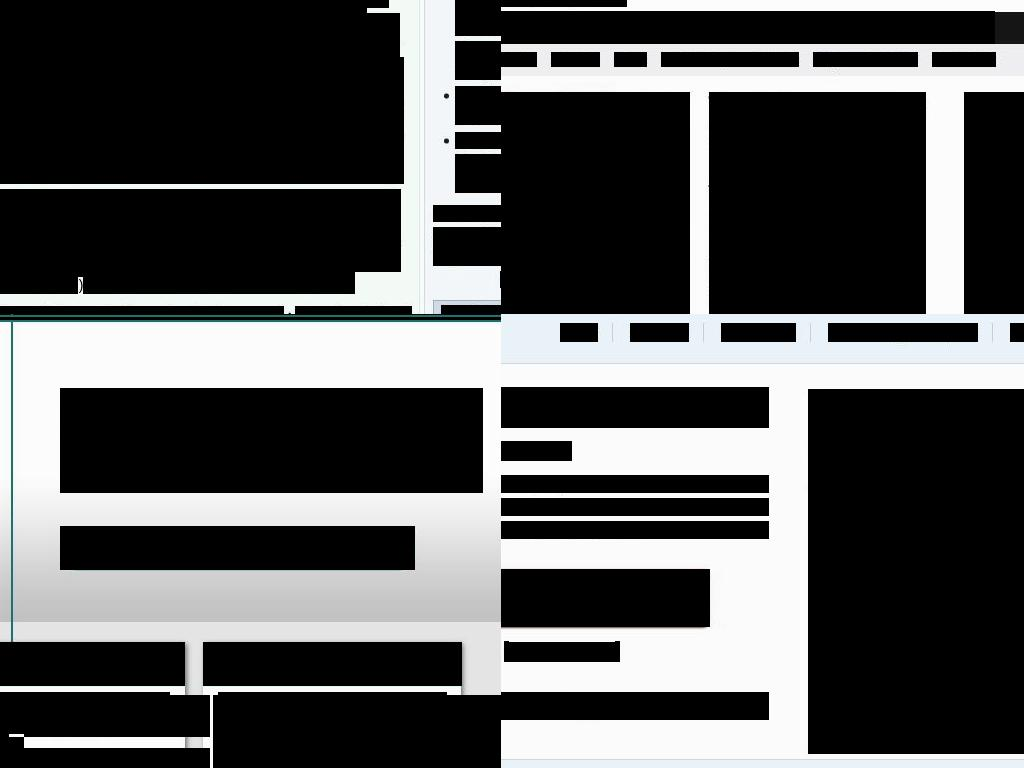button: (501, 92, 690, 314), (60, 526, 415, 570), (501, 569, 710, 627), (704, 11, 822, 44), (603, 11, 705, 44), (894, 11, 995, 44), (523, 11, 604, 44), (821, 11, 895, 44), (501, 11, 524, 44)
heading: (709, 92, 926, 314), (441, 305, 501, 314)
iframe: (218, 692, 447, 768)
image: (808, 389, 1024, 754), (501, 92, 690, 314), (213, 695, 329, 768), (0, 317, 501, 320)
link: (0, 0, 367, 30), (501, 579, 677, 602), (828, 323, 978, 342), (433, 227, 501, 266), (78, 167, 227, 184), (508, 642, 616, 662), (661, 52, 799, 67), (136, 13, 242, 30), (813, 52, 918, 67), (265, 255, 350, 272), (721, 323, 796, 342), (0, 189, 81, 206), (0, 277, 80, 294), (122, 306, 280, 314), (729, 294, 807, 309), (433, 205, 501, 222), (433, 227, 501, 244), (630, 323, 689, 342), (932, 52, 996, 67), (295, 306, 412, 314), (455, 41, 501, 58), (455, 86, 501, 103), (455, 154, 501, 171), (169, 57, 214, 74), (551, 52, 600, 67), (560, 323, 598, 342), (501, 52, 537, 67), (614, 52, 647, 67), (1010, 323, 1024, 342)
text: (0, 57, 404, 184), (60, 388, 483, 493), (0, 189, 401, 272), (0, 13, 400, 74), (0, 255, 355, 294), (344, 695, 501, 768), (203, 642, 462, 686), (501, 387, 769, 428), (0, 642, 185, 686), (24, 695, 210, 737), (501, 692, 769, 720), (0, 692, 170, 734), (501, 475, 769, 493), (501, 498, 769, 516), (501, 521, 769, 539), (226, 167, 393, 184), (164, 0, 389, 8), (455, 41, 501, 80), (455, 0, 501, 36), (46, 13, 136, 30), (501, 441, 572, 461), (520, 598, 604, 613), (83, 189, 144, 206), (0, 306, 117, 314), (816, 294, 869, 309), (709, 294, 730, 309), (808, 389, 822, 409), (821, 389, 831, 409), (806, 294, 817, 309), (504, 641, 509, 662), (615, 641, 620, 662), (78, 277, 83, 294), (117, 306, 123, 314), (278, 306, 284, 314)
